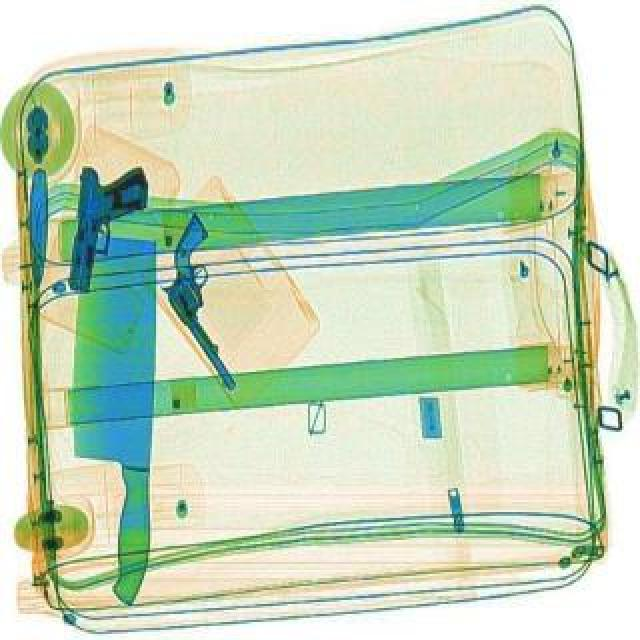gun: (128, 210, 296, 390), (64, 160, 152, 296)
knife: (64, 234, 160, 606), (24, 166, 46, 540)
